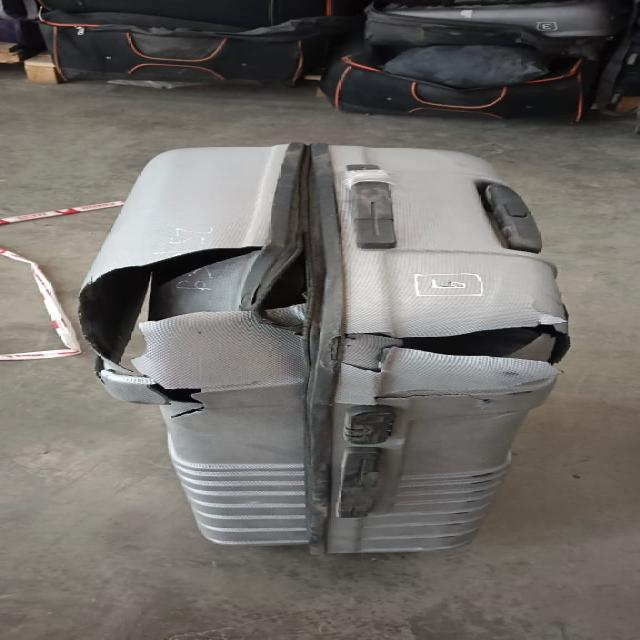Damage-bag: (81, 225, 311, 415), (333, 321, 569, 404)
